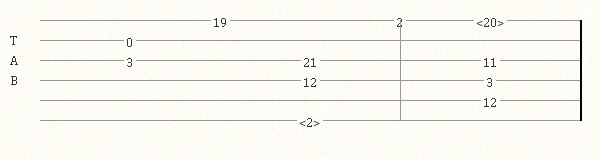0: (126, 34, 137, 47)
11: (483, 54, 501, 67)
12: (303, 74, 321, 87), (483, 94, 501, 107)
19: (213, 14, 231, 27)
2: (396, 14, 407, 27)
21: (303, 54, 321, 67)
3: (126, 54, 137, 67), (486, 74, 497, 87)
harmonic: (476, 14, 508, 27), (299, 114, 324, 127)
